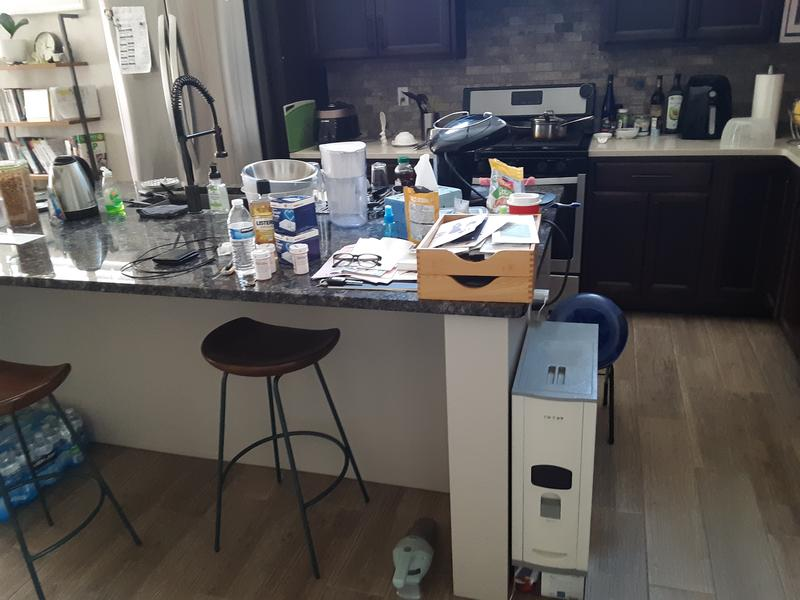glasses: (330, 252, 384, 271)
